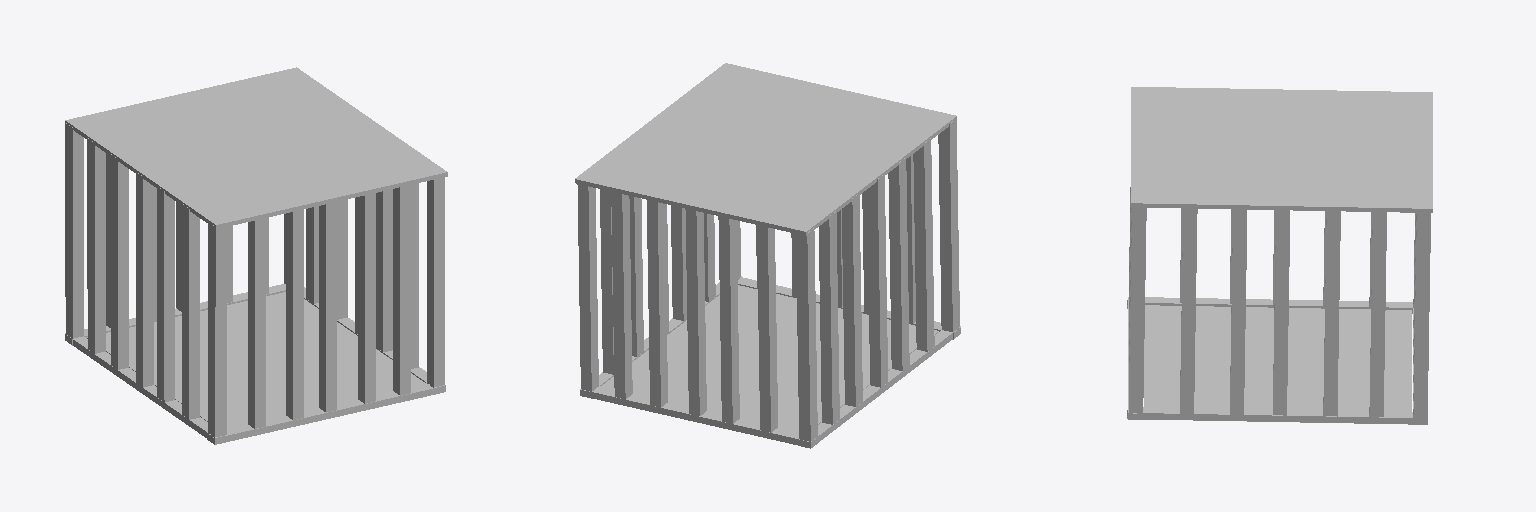
The model's file is jaulita.obj.
3 renders of one model, left to right at view 1: azimuth 30°, elevation 25°; view 2: azimuth 150°, elevation 25°; view 3: azimuth 270°, elevation 25°, orthographic.
Parts seen in each view (by area): view 1: Cage.005; view 2: Cage.005; view 3: Cage.005.
Part boxes in pixels (bbox=[...]): Cage.005: bbox=[65, 67, 447, 444]; Cage.005: bbox=[575, 63, 960, 448]; Cage.005: bbox=[1127, 87, 1432, 424].
Bounding box in the file's own units: 179 × 166 × 202.